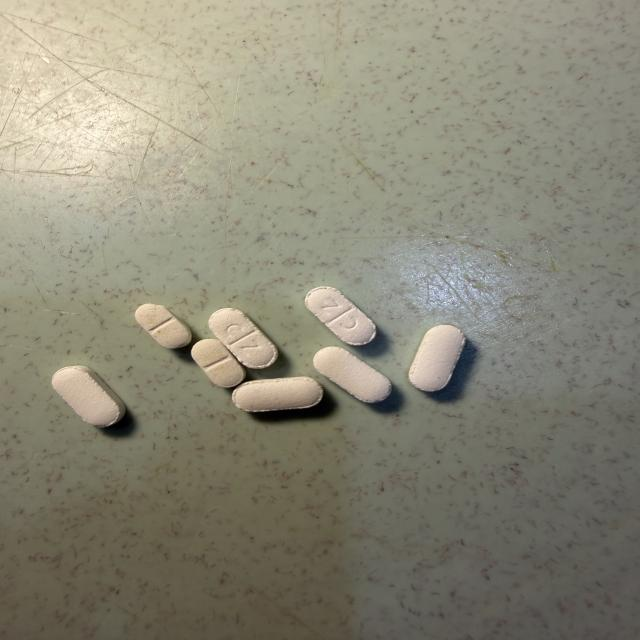pill: (52, 366, 125, 427), (314, 347, 391, 403), (209, 308, 278, 369), (305, 287, 376, 345), (408, 324, 466, 392), (232, 377, 323, 412), (192, 339, 245, 387), (135, 304, 191, 348)
